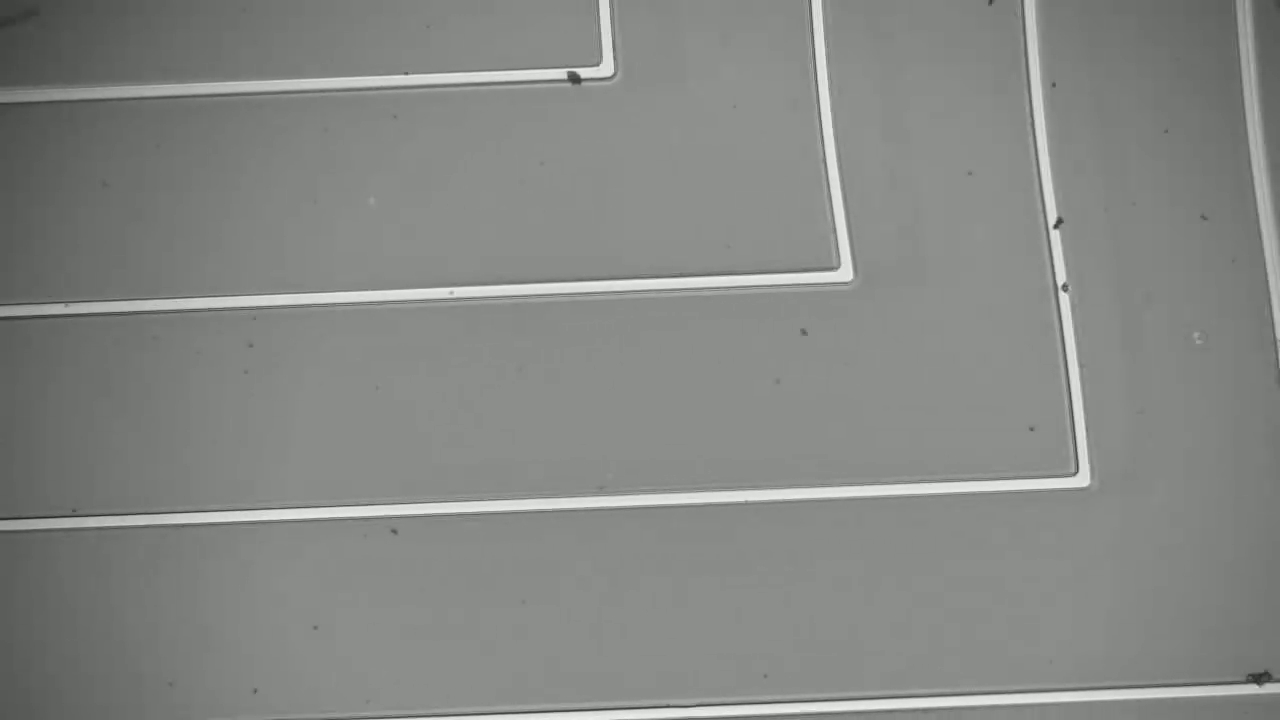stains_enbedded: (556, 60, 591, 88)
